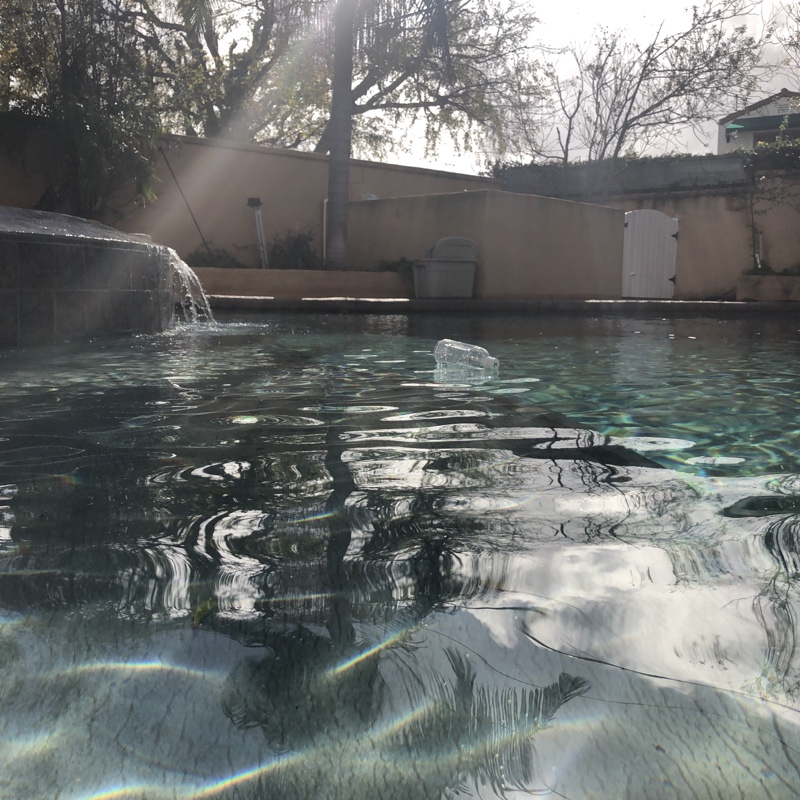Plastic Bottle: (431, 335, 502, 380)
